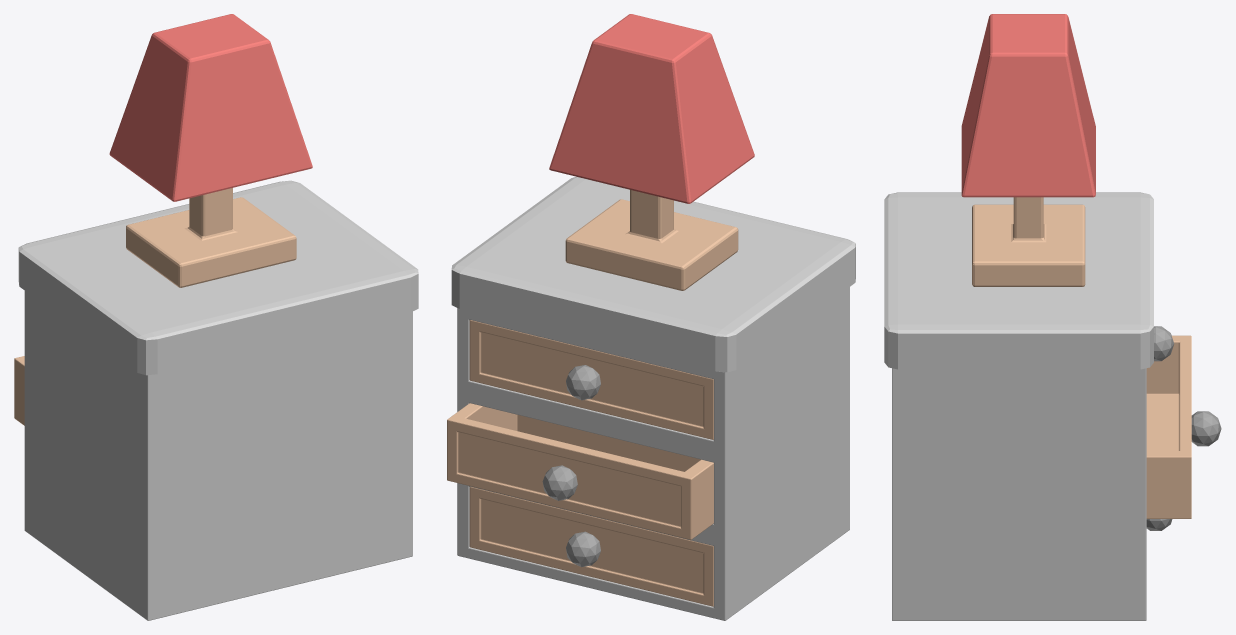
The model's file is bed_table.fbx.
3 renders of one model, left to right at view 1: azimuth 30°, elevation 25°; view 2: azimuth 150°, elevation 25°; view 3: azimuth 270°, elevation 25°, orthographic. The views are drawn at different scales.
Parts seen in each view (by area): view 1: Bedside table 1, Lamp 1; view 2: Bedside table 1, Lamp 1; view 3: Bedside table 1, Lamp 1.
Part boxes in pixels (x1,y1,x2,y2): Bedside table 1: (14, 180, 418, 620); Lamp 1: (109, 14, 312, 287); Bedside table 1: (447, 176, 855, 620); Lamp 1: (549, 14, 754, 290); Bedside table 1: (884, 192, 1221, 620); Lamp 1: (961, 14, 1095, 286).
Bounding box in the file's own units: 117 × 201 × 118.
